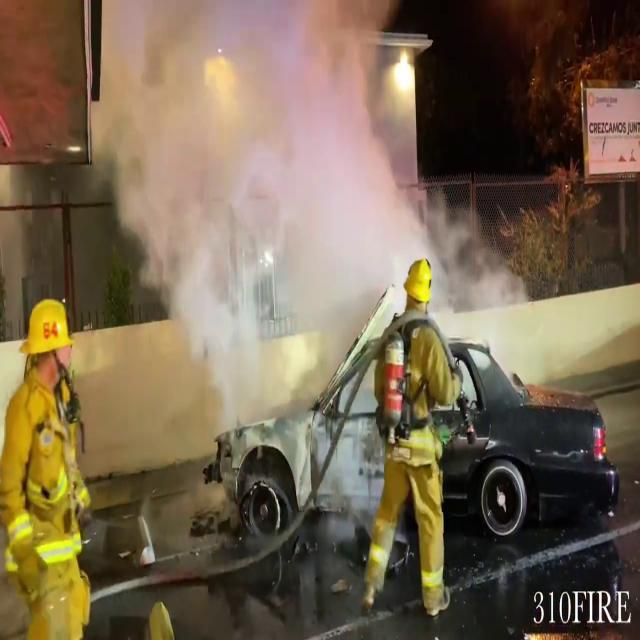Smoke: (78, 0, 408, 396)
